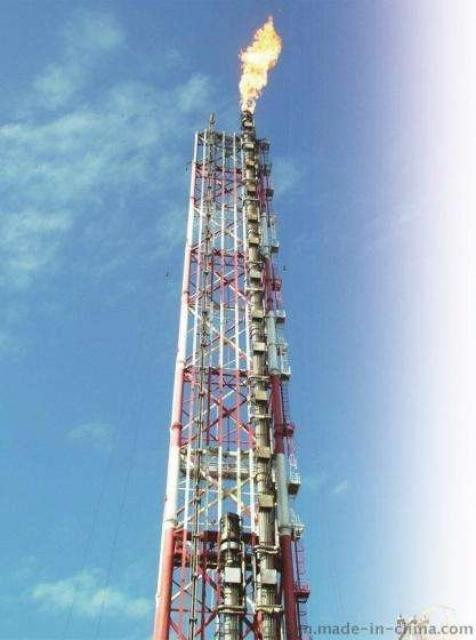fire: (241, 11, 283, 110)
